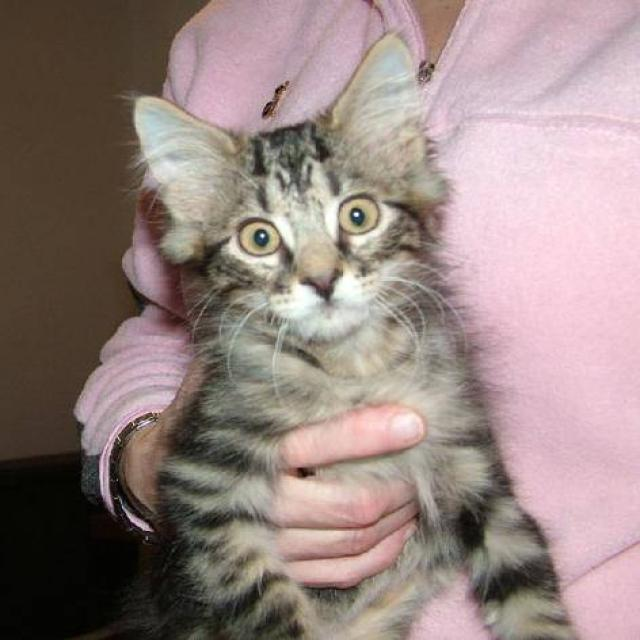cat: (90, 28, 602, 639)
